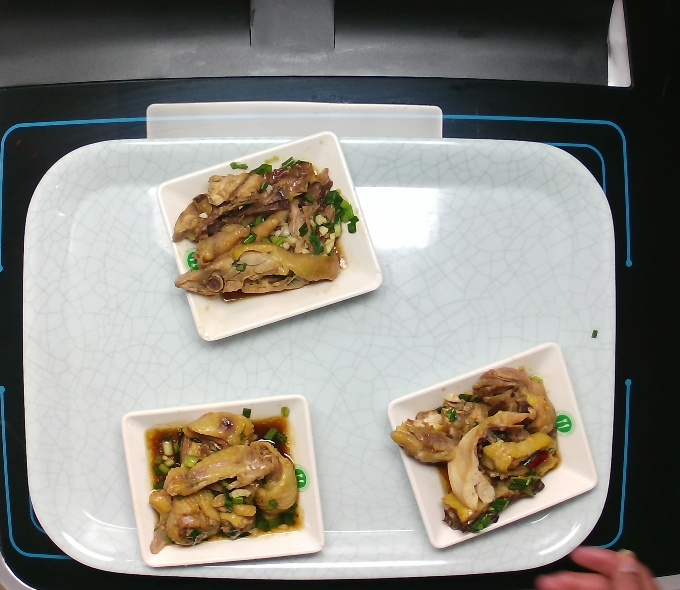wcq-CongYouJi: (389, 364, 564, 538), (171, 154, 355, 302), (141, 407, 303, 554)
